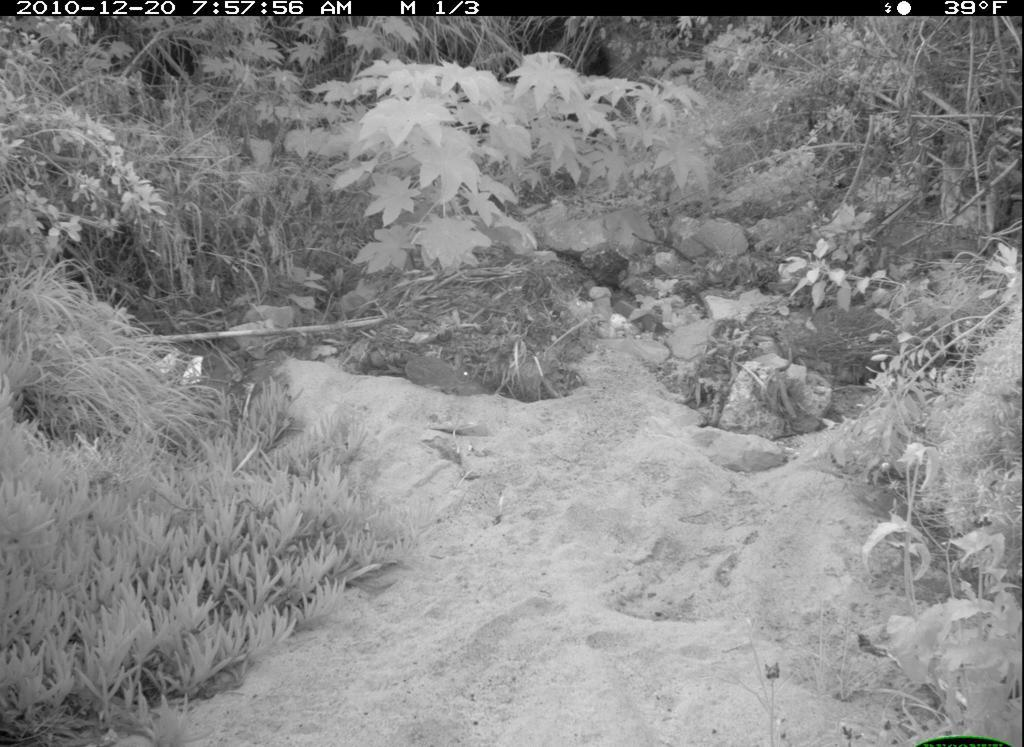rabbit: (388, 344, 493, 404)
